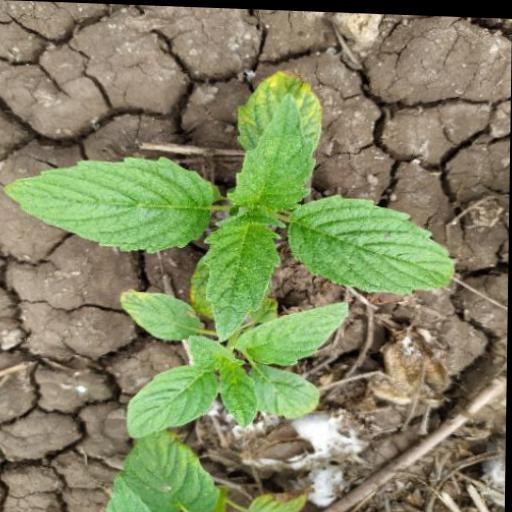crop: (1, 74, 477, 319), (72, 288, 377, 444)
